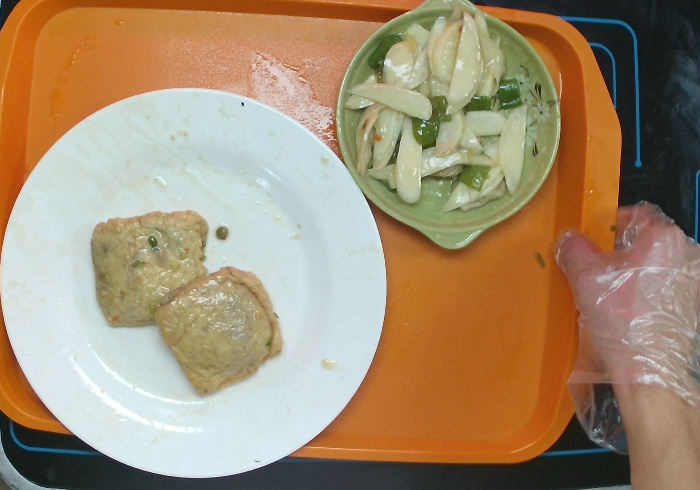NLDX-Da_Yuan_Pan: (1, 77, 392, 482)
NLDX-Lv_Hua_Shuang_Er_Die: (328, 1, 565, 254)
